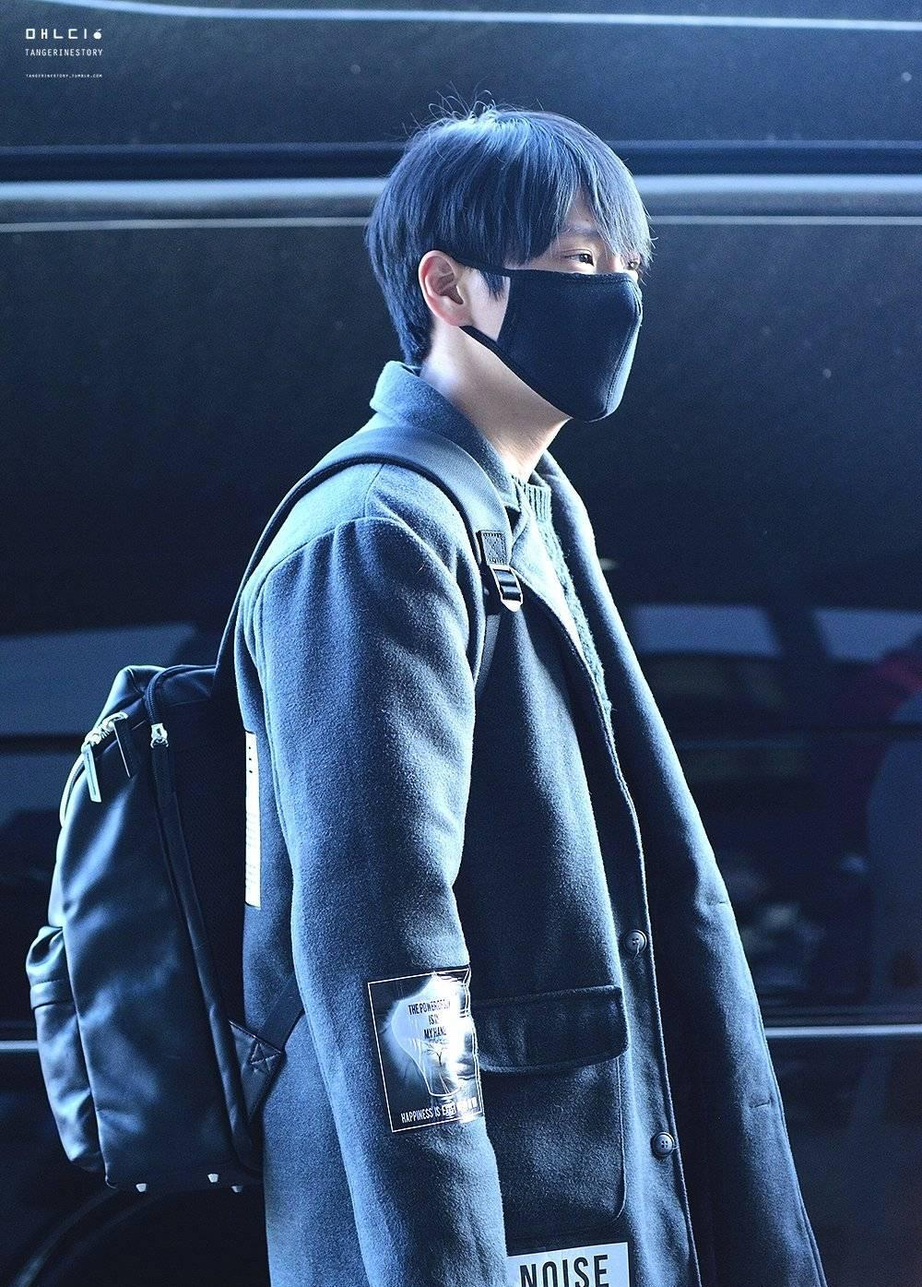OK: (455, 209, 664, 419)
